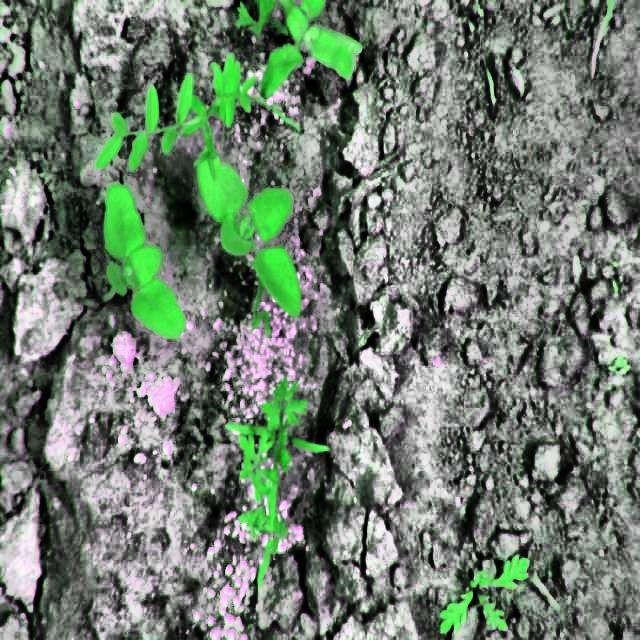Weeds: (186, 153, 306, 321), (98, 179, 188, 342), (240, 0, 360, 99)
undefined: (224, 367, 328, 592), (92, 51, 274, 172), (436, 551, 534, 639)
